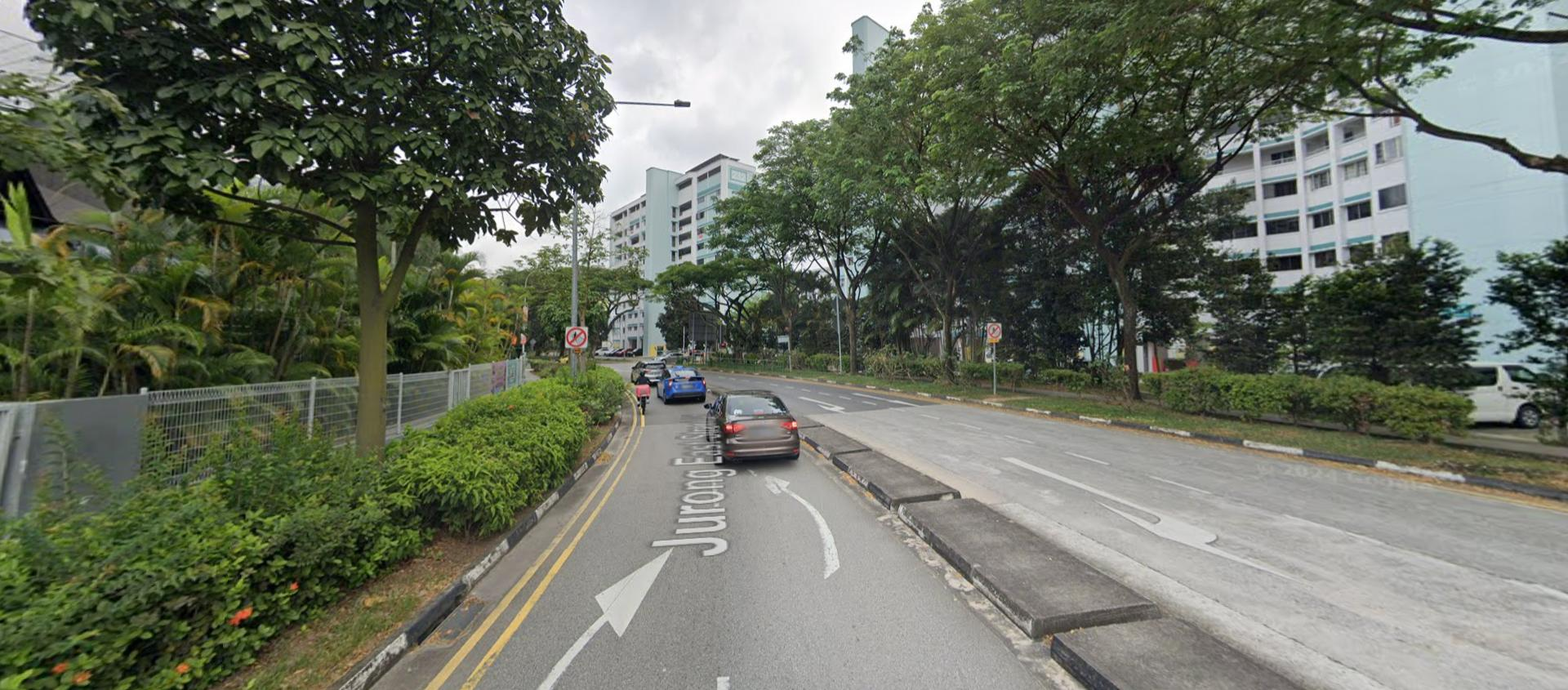normal: (422, 600, 489, 646)
